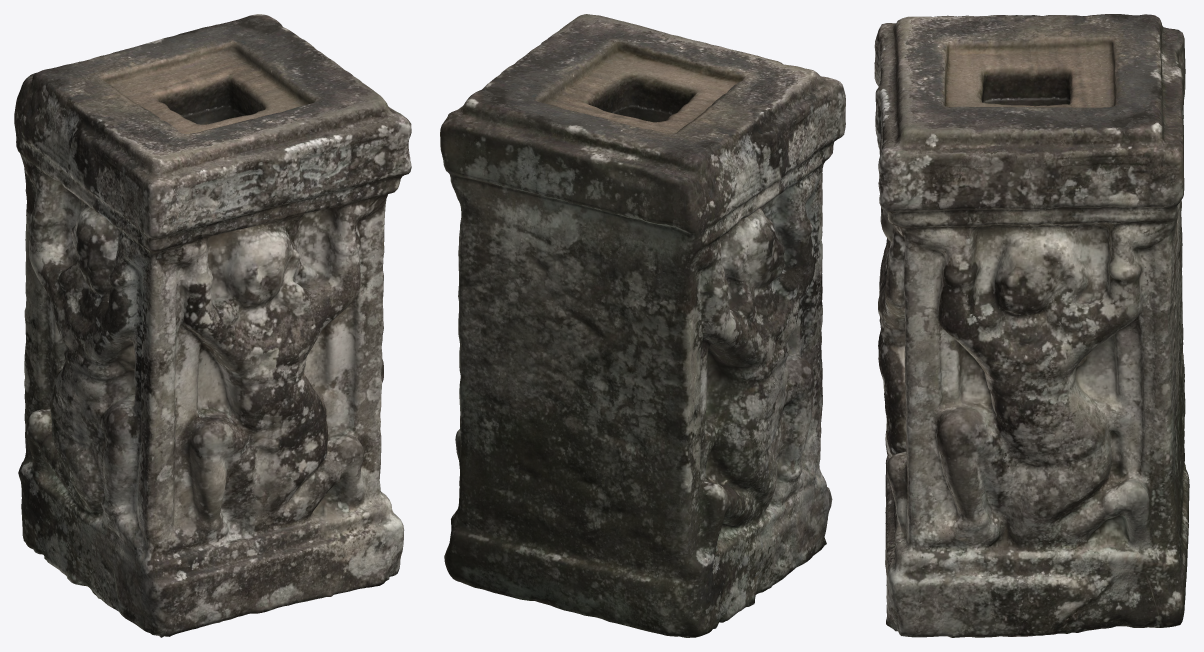
File: 26_MysonSanctuaryD_Nguoidotru_final.glb
3 views of the same model, side by side, from view 1: azimuth 30°, elevation 25°; view 2: azimuth 150°, elevation 25°; view 3: azimuth 270°, elevation 25° (orthographic). The views are drawn at different scales.
Size of the model in its own units: 0.4521 by 0.7524 by 0.4252.
Materials: 1 (1 with a texture image).
